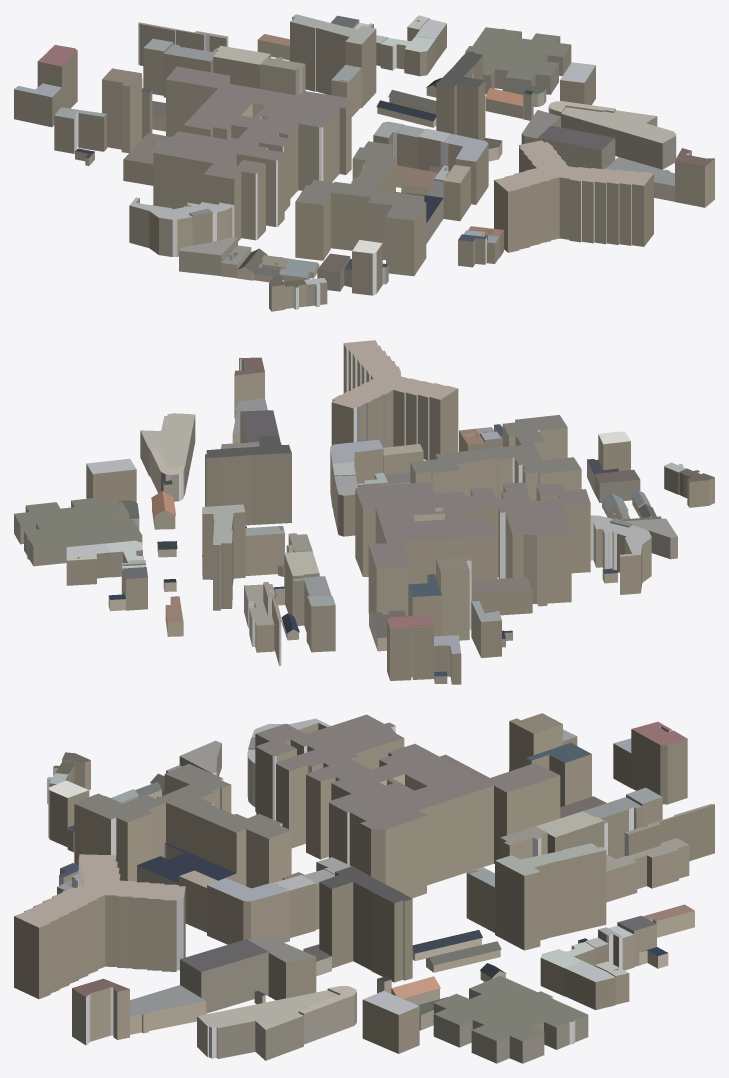
3 views of the same model, one above another, from view 1: azimuth 30°, elevation 25°; view 2: azimuth 150°, elevation 25°; view 3: azimuth 270°, elevation 25° (orthographic). The views are drawn at different scales.
Visible parts, largest first — view 1: tuile; view 2: tuile; view 3: tuile.
Boxes of the visible parts, x1,y1,x2,y2 form: tuile: (14, 14, 714, 311); tuile: (14, 340, 714, 684); tuile: (14, 713, 714, 1063).
Size of the model in its own units: 286 by 43.96 by 286.
